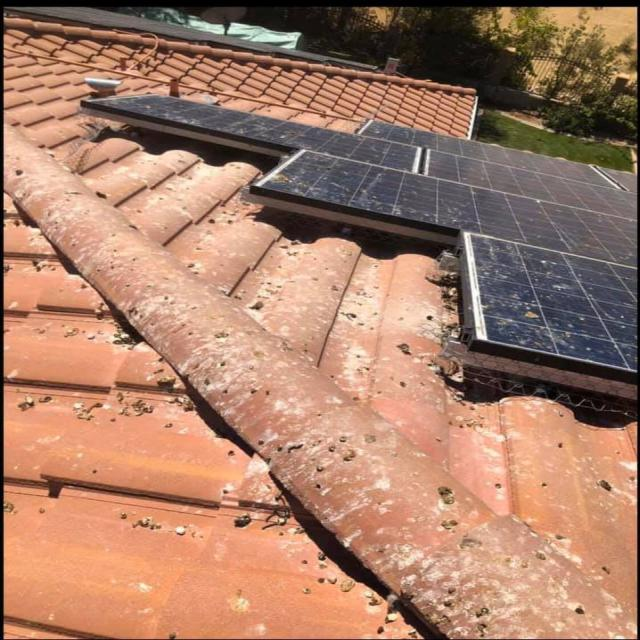dust-solar-panel: (81, 92, 640, 371)
